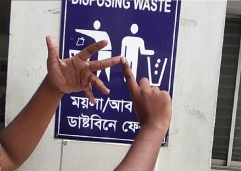u: (45, 34, 143, 108)
